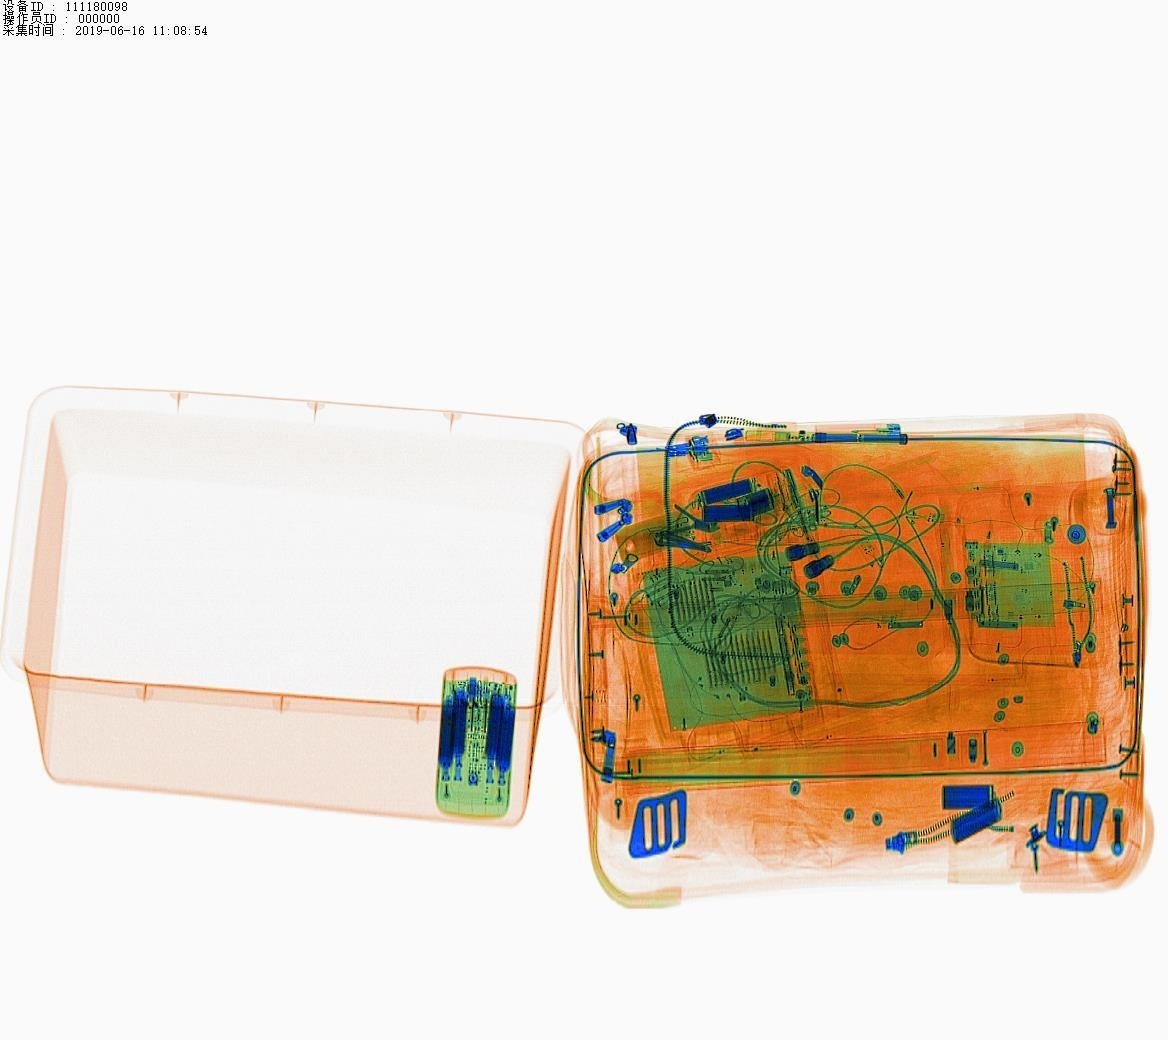NonmetallicFire: (807, 414, 918, 450)
